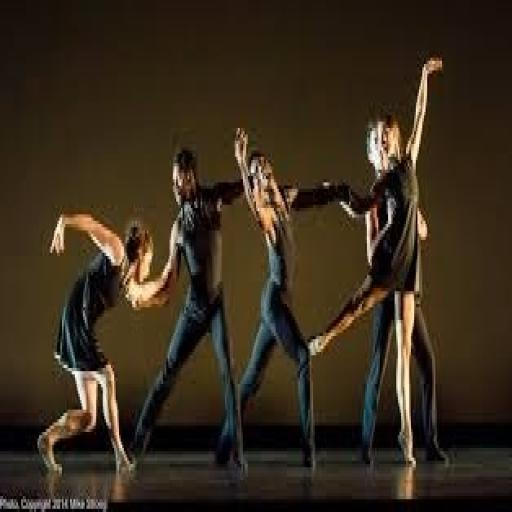dancing: (282, 51, 448, 474), (126, 141, 250, 477), (36, 205, 168, 483)
